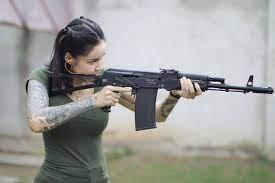larga: (48, 68, 275, 132)
